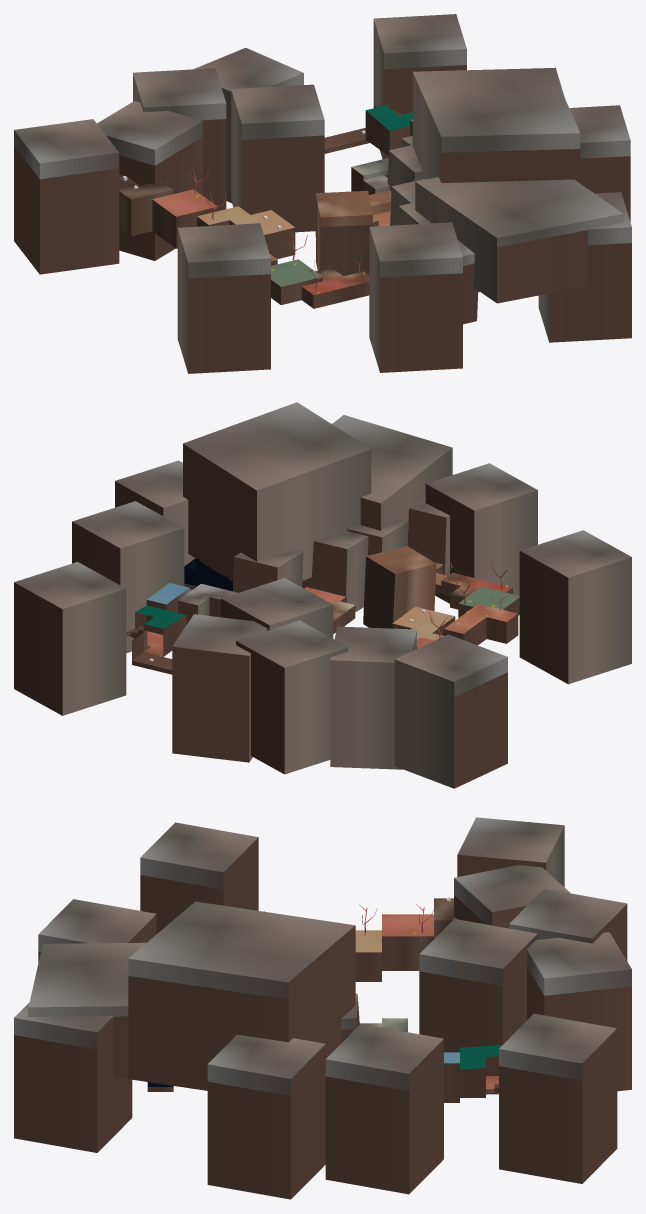
The model's file is simple-2.gltf.
The picture shows the model from 3 angles, top to bottom: view 1: azimuth 30°, elevation 25°; view 2: azimuth 150°, elevation 25°; view 3: azimuth 270°, elevation 25°; orthographic projection. The views are drawn at different scales.
Visible parts, largest first — view 1: Plane.005; view 2: Plane.005; view 3: Plane.005.
Boxes of the visible parts, <box> form: Plane.005: <box>14,14,631,373</box>; Plane.005: <box>14,402,631,788</box>; Plane.005: <box>14,817,631,1199</box>.
Size of the model in its own units: 340 by 112 by 339.
Materials: 3 (1 with a texture image).
